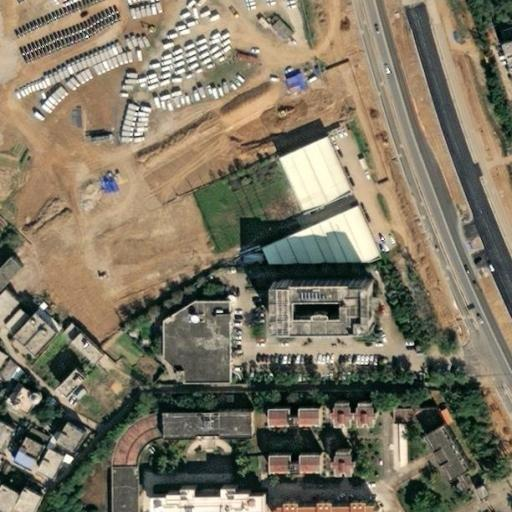building: (251, 207, 380, 265), (273, 135, 352, 219), (162, 297, 233, 384), (263, 278, 368, 331), (142, 470, 259, 506), (413, 405, 467, 468), (259, 483, 373, 512), (153, 405, 249, 435), (101, 418, 137, 464), (0, 422, 35, 467), (264, 437, 314, 466), (67, 333, 105, 371), (43, 409, 78, 445), (10, 314, 45, 349), (23, 327, 57, 361), (257, 406, 312, 427), (25, 440, 57, 476), (0, 257, 25, 297), (0, 383, 31, 415), (318, 439, 349, 469), (7, 477, 35, 510), (55, 372, 85, 402), (496, 40, 512, 96), (342, 390, 371, 420), (100, 484, 130, 512), (126, 410, 152, 442), (386, 403, 427, 420), (101, 463, 131, 485), (282, 66, 308, 91), (74, 361, 98, 385), (322, 392, 344, 416), (0, 474, 13, 507), (464, 481, 483, 501), (1, 366, 19, 383), (252, 0, 271, 16), (52, 450, 66, 466), (448, 459, 462, 473)
